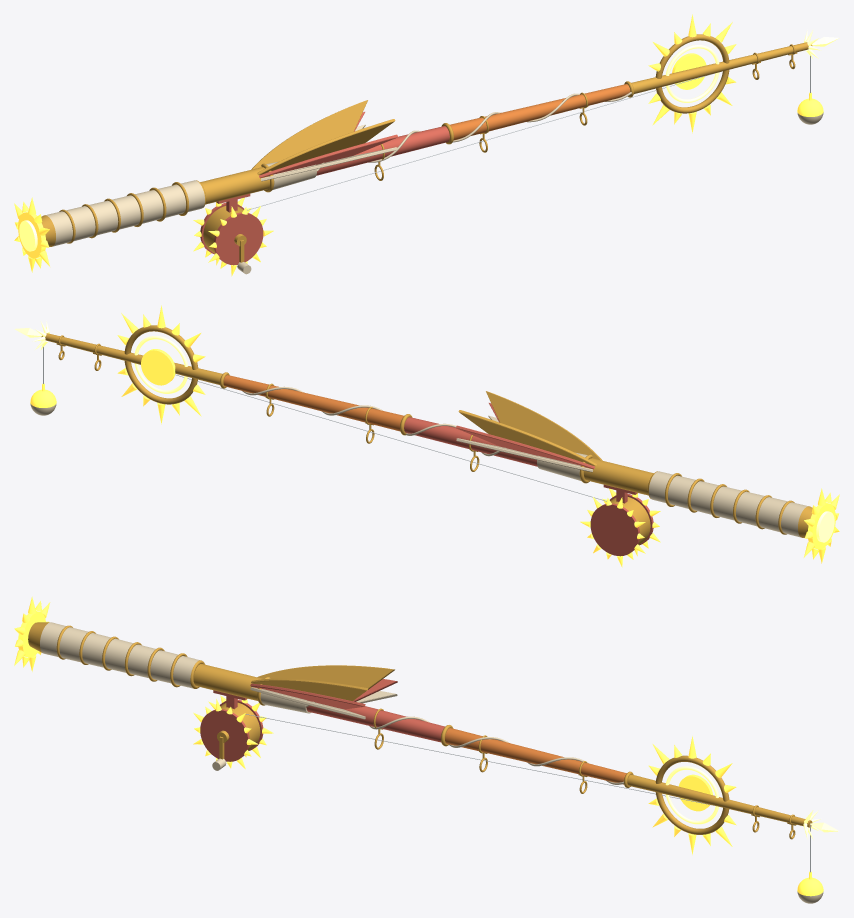
File: ROD_SUNRISE.glb
3 views of the same model, one above another, from view 1: azimuth 30°, elevation 25°; view 2: azimuth 150°, elevation 25°; view 3: azimuth 330°, elevation 25° (orthographic).
Visible parts, largest first — view 1: rear_grip, blank_morning, wing_r_0, reel_plate_f, blank_noon, blank_dawn, wing_l_0, reel_seat, halo_ring, wing_l_1, halo_sun, wing_l_2 (+5 smaller); view 2: rear_grip, blank_morning, wing_l_0, reel_plate_b, blank_dawn, wing_r_0, reel_seat, blank_noon, halo_ring, halo_sun, wing_r_1, wing_r_2 (+5 smaller); view 3: rear_grip, blank_morning, wing_r_0, blank_dawn, blank_noon, reel_plate_f, reel_seat, halo_ring, wing_l_0, wing_l_1, halo_sun, halo_inner (+2 smaller).
Boxes of the visible parts, box(x1,y1,x2,y2) form: rear_grip: box(45, 180, 204, 246); blank_morning: box(450, 84, 630, 140); wing_r_0: box(251, 100, 367, 169); reel_plate_f: box(214, 212, 263, 265); blank_noon: box(631, 42, 812, 93); blank_dawn: box(316, 126, 449, 175); wing_l_0: box(257, 119, 395, 175); reel_seat: box(200, 167, 269, 204); halo_ring: box(655, 34, 729, 113); wing_l_1: box(259, 134, 397, 178); halo_sun: box(672, 53, 706, 89); wing_l_2: box(261, 147, 397, 181); rear_grip: box(649, 471, 808, 537); blank_morning: box(223, 375, 403, 431); wing_l_0: box(486, 391, 602, 460); reel_plate_b: box(590, 503, 639, 556); blank_dawn: box(404, 417, 537, 466); wing_r_0: box(458, 410, 596, 466); reel_seat: box(584, 458, 653, 495); blank_noon: box(41, 333, 222, 384); halo_ring: box(124, 325, 198, 404); halo_sun: box(141, 349, 175, 385); wing_r_1: box(456, 425, 594, 469); wing_r_2: box(456, 438, 592, 472); rear_grip: box(40, 622, 199, 688); blank_morning: box(445, 728, 626, 784); wing_r_0: box(257, 665, 394, 689); blank_dawn: box(306, 705, 444, 742); blank_noon: box(627, 774, 812, 827); reel_plate_f: box(200, 709, 249, 761); reel_seat: box(193, 664, 263, 700); halo_ring: box(655, 755, 729, 834); wing_l_0: box(251, 678, 368, 700); wing_l_1: box(250, 683, 365, 709); halo_sun: box(678, 774, 712, 811); halo_inner: box(665, 766, 719, 824).
Bounding box in the file's own units: 1.79 × 0.3011 × 0.1386.
